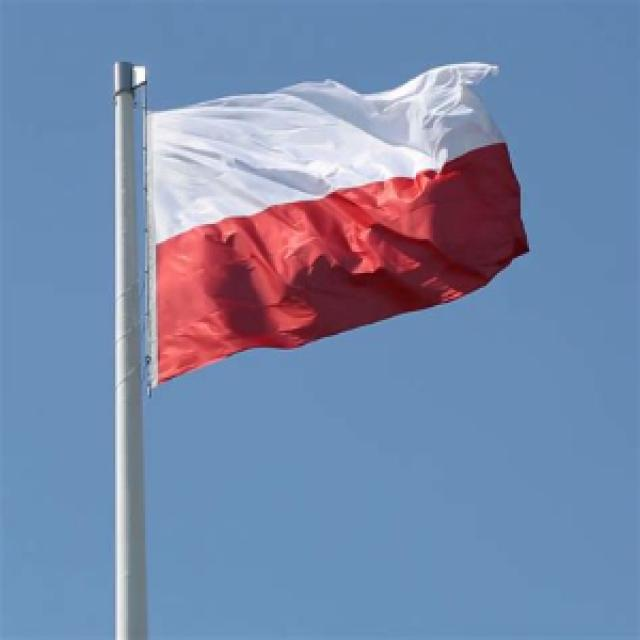poland: (96, 39, 581, 426)
